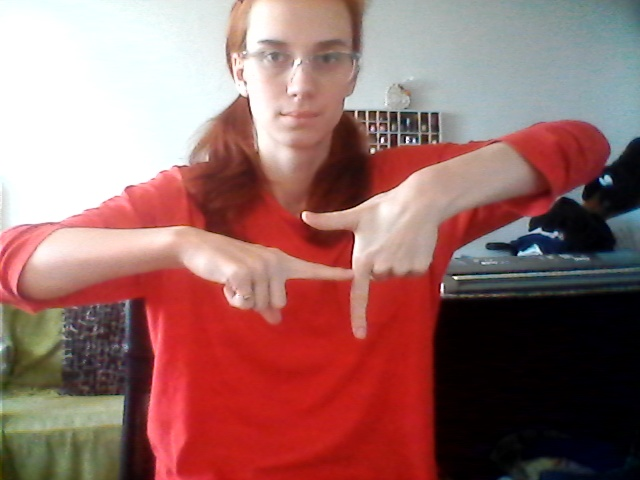f: (219, 200, 449, 367)
